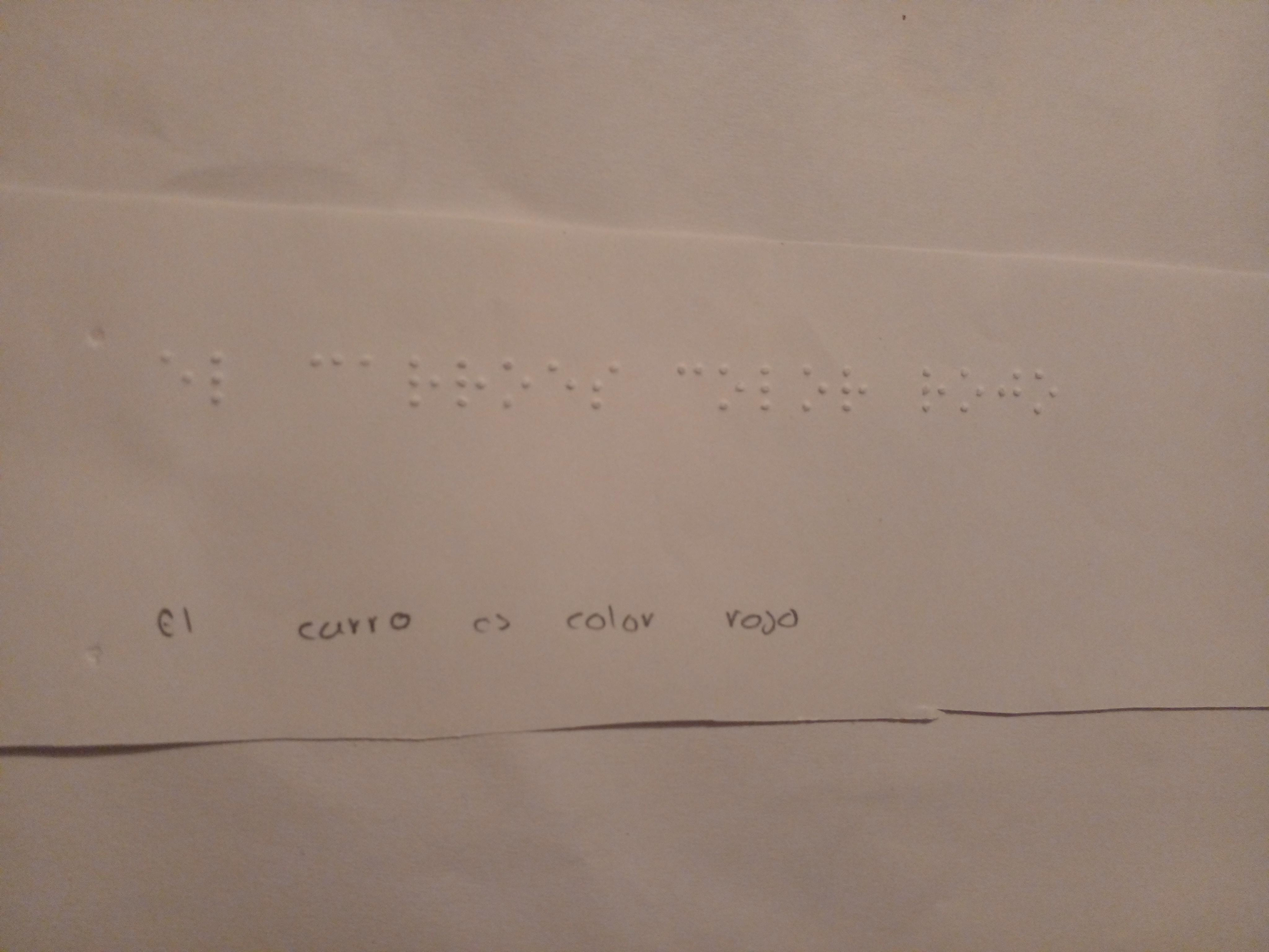a: (353, 342, 383, 389)
c: (672, 353, 711, 420), (307, 341, 349, 398)
e: (150, 333, 204, 414), (545, 363, 579, 423)
j: (993, 364, 1027, 429)
l: (209, 346, 235, 426), (754, 364, 779, 425)
o: (496, 355, 534, 431), (1027, 361, 1064, 435), (714, 356, 751, 429), (792, 356, 829, 426), (956, 359, 988, 428)
r: (393, 347, 441, 425), (449, 353, 493, 423), (919, 358, 951, 432), (838, 358, 872, 425)
s: (589, 358, 624, 426)
